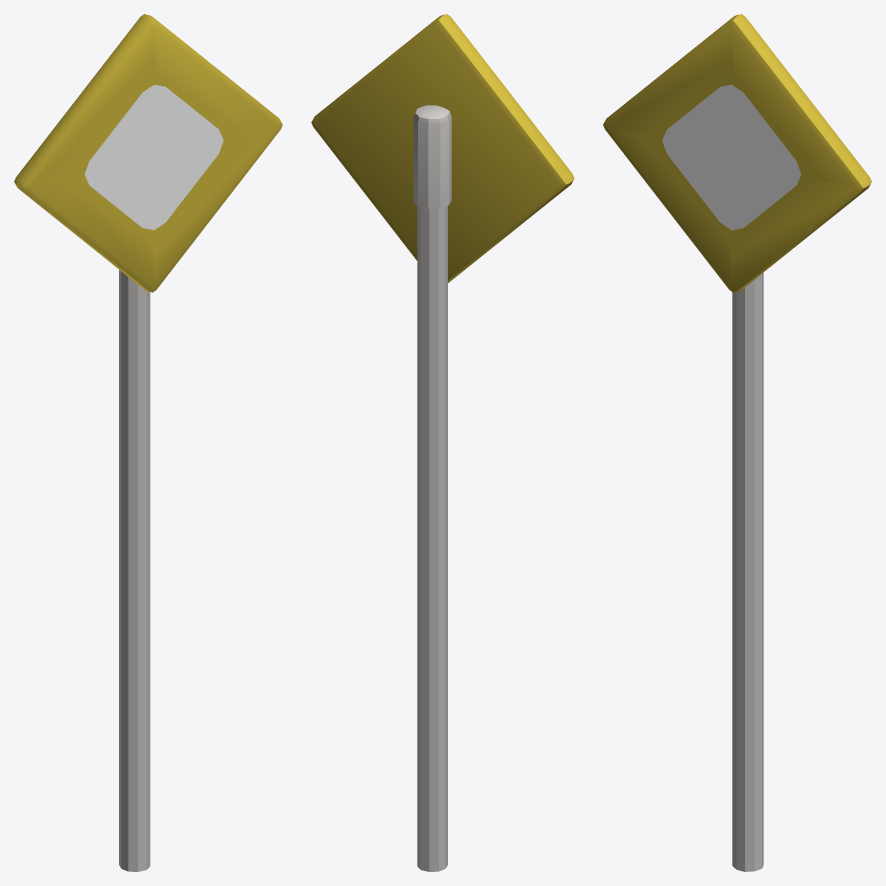
Rendered from SM_traffic_sign_04.fbx.
3 views of the same model, side by side, from view 1: azimuth 30°, elevation 25°; view 2: azimuth 150°, elevation 25°; view 3: azimuth 330°, elevation 25° (orthographic). The views are drawn at different scales.
Parts seen in each view (by area): view 1: Object32409; view 2: Object32409; view 3: Object32409.
Part boxes in pixels (box(x1,y1,x2,y2)): Object32409: box(14, 14, 282, 871); Object32409: box(311, 14, 574, 871); Object32409: box(603, 14, 871, 871).
Bounding box in the file's own units: 41.54 × 130 × 7.49.
